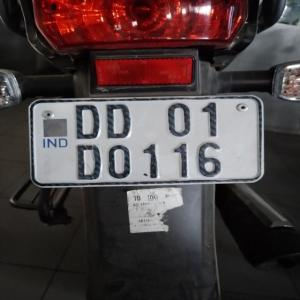Plate: (37, 100, 261, 185)
